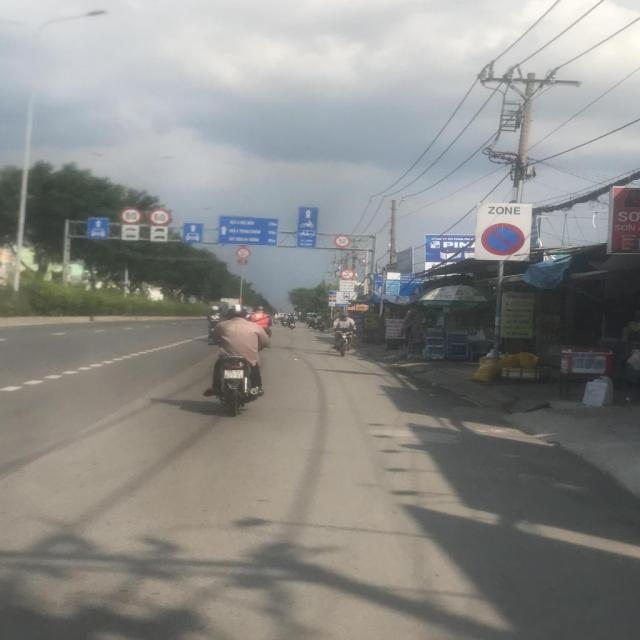cam_o_to_tai_va_xe_khach: (340, 268, 354, 280)
cam_xe_2_banh_va_xe_3_banh_co_dong_co: (236, 248, 250, 258)
duong_cho_xe_o_to: (88, 218, 108, 239), (183, 223, 203, 243)
khac: (219, 216, 279, 246), (297, 206, 317, 248), (336, 292, 356, 305), (339, 281, 355, 292), (122, 232, 139, 240), (151, 234, 168, 242), (122, 225, 139, 232), (151, 226, 168, 233)
toc_do_toi_da_50: (333, 234, 351, 248)
toc_do_toi_da_60: (148, 208, 171, 226)
toc_do_toi_da_80: (120, 208, 144, 225)
